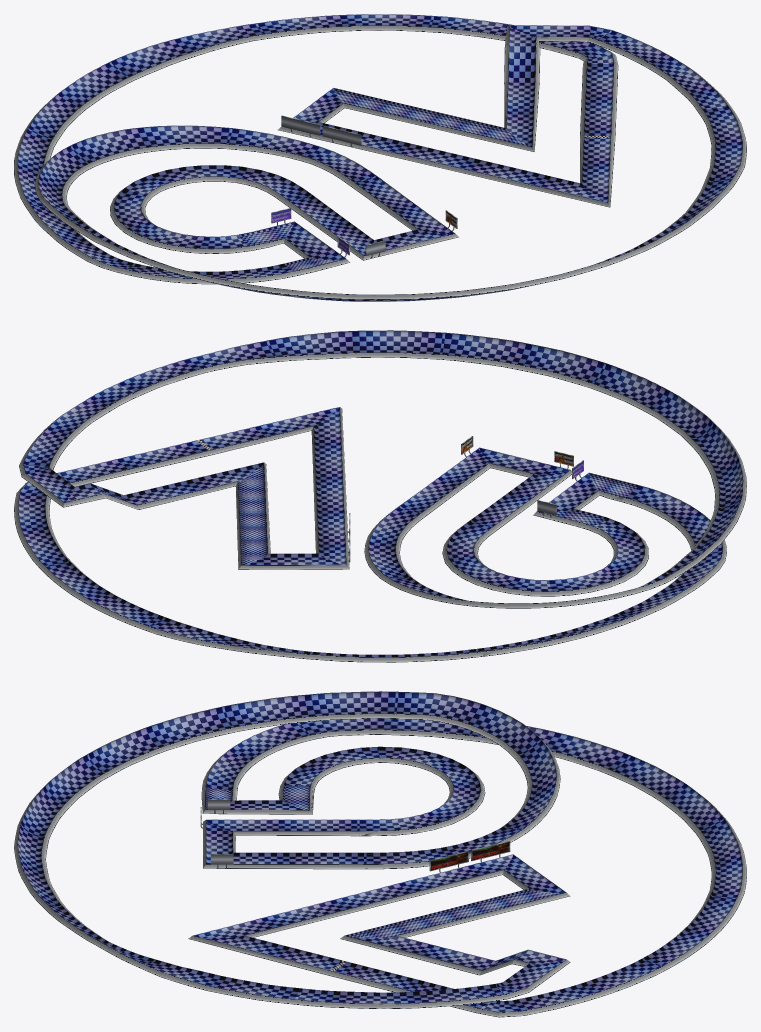
The picture shows the model from 3 angles, top to bottom: view 1: azimuth 30°, elevation 25°; view 2: azimuth 150°, elevation 25°; view 3: azimuth 270°, elevation 25°; orthographic projection.
Visible parts, largest first — view 1: Model-SKP--1_29png, Model-SKP--1_3p, Model-SKP--1_24pn, Model-SKP--1_7p, Model-SKP--gxmat11412p, Model-SKP--1_9pn, Model-SKP--1_11pn, Model-SKP--1_19pn, Model-SKP--1_17pn, Model-SKP--1_2p, Model-SKP--1_5p, Model-SKP--1_23pn (+40 smaller); view 2: Model-SKP--1_3p, Model-SKP--1_32pn, Model-SKP--1_30pn, Model-SKP--1_29png, Model-SKP--1_31pn, Model-SKP--1_2p, Model-SKP--1_5p, Model-SKP--1_17pn, Model-SKP--1_19pn, Model-SKP--1_1p, Model-SKP--1_7p, Model-SKP--1_8pn (+38 smaller); view 3: Model-SKP--1_3p, Model-SKP--1_26pn, Model-SKP--1_25pn, Model-SKP--1_28pn, Model-SKP--1_29png, Model-SKP--1_11pn, Model-SKP--1_31pn, Model-SKP--1_5p, Model-SKP--1_17pn, Model-SKP--1_2p, Model-SKP--1_19pn, Model-SKP--1_8pn (+42 smaller).
Boxes of the visible parts, x1,y1,x2,y2 form: Model-SKP--1_29png: (582, 63, 613, 202); Model-SKP--1_3p: (316, 122, 603, 201); Model-SKP--1_24pn: (72, 125, 232, 162); Model-SKP--1_7p: (506, 26, 536, 146); Model-SKP--gxmat11412p: (278, 103, 610, 207); Model-SKP--1_9pn: (111, 23, 264, 76); Model-SKP--1_11pn: (29, 61, 128, 138); Model-SKP--1_19pn: (124, 165, 310, 200); Model-SKP--1_17pn: (114, 188, 247, 248); Model-SKP--1_2p: (598, 30, 727, 109); Model-SKP--1_5p: (333, 88, 527, 145); Model-SKP--1_23pn: (229, 128, 376, 182); Model-SKP--1_3p: (314, 407, 346, 564); Model-SKP--1_32pn: (269, 330, 445, 356); Model-SKP--1_30pn: (442, 332, 605, 383); Model-SKP--1_29png: (57, 407, 339, 482); Model-SKP--1_31pn: (594, 363, 713, 438); Model-SKP--1_2p: (23, 383, 135, 466); Model-SKP--1_5p: (238, 463, 267, 565); Model-SKP--1_17pn: (549, 517, 644, 591); Model-SKP--1_19pn: (447, 520, 551, 591); Model-SKP--1_1p: (119, 340, 276, 391); Model-SKP--1_7p: (66, 462, 263, 504); Model-SKP--1_8pn: (18, 482, 68, 565); Model-SKP--1_3p: (193, 854, 512, 937); Model-SKP--1_26pn: (224, 691, 398, 726); Model-SKP--1_25pn: (396, 692, 540, 755); Model-SKP--1_28pn: (89, 706, 233, 771); Model-SKP--1_29png: (201, 935, 489, 1008); Model-SKP--1_11pn: (614, 755, 724, 830); Model-SKP--1_31pn: (21, 753, 105, 836); Model-SKP--1_5p: (345, 888, 560, 937); Model-SKP--1_17pn: (284, 746, 464, 785); Model-SKP--1_2p: (295, 984, 503, 1003); Model-SKP--1_19pn: (359, 766, 480, 830); Model-SKP--1_8pn: (481, 959, 660, 1012).
Bounding box in the file's own units: 93096 × 4573 × 92701.
Materials: 80 (80 with a texture image).
